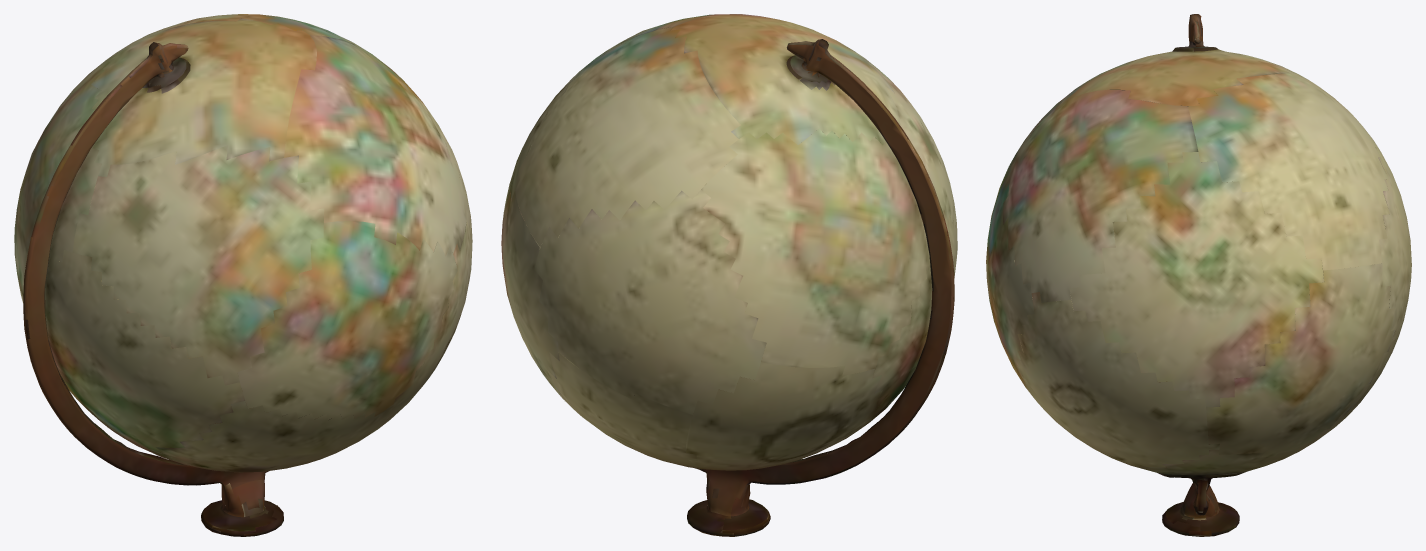
Rendered from obj_globe.glb.
The picture shows the model from 3 angles, left to right: view 1: azimuth 30°, elevation 25°; view 2: azimuth 150°, elevation 25°; view 3: azimuth 270°, elevation 25°; orthographic projection. The views are drawn at different scales.
Parts seen in each view (by area): view 1: Object_2; view 2: Object_2; view 3: Object_2.
Part boxes in pixels (bbox=[...]): Object_2: bbox=[14, 14, 472, 536]; Object_2: bbox=[501, 14, 957, 536]; Object_2: bbox=[986, 14, 1411, 536].
Bounding box in the file's own units: 0.3951 × 0.45 × 0.3719.
Materials: 1 (1 with a texture image).
